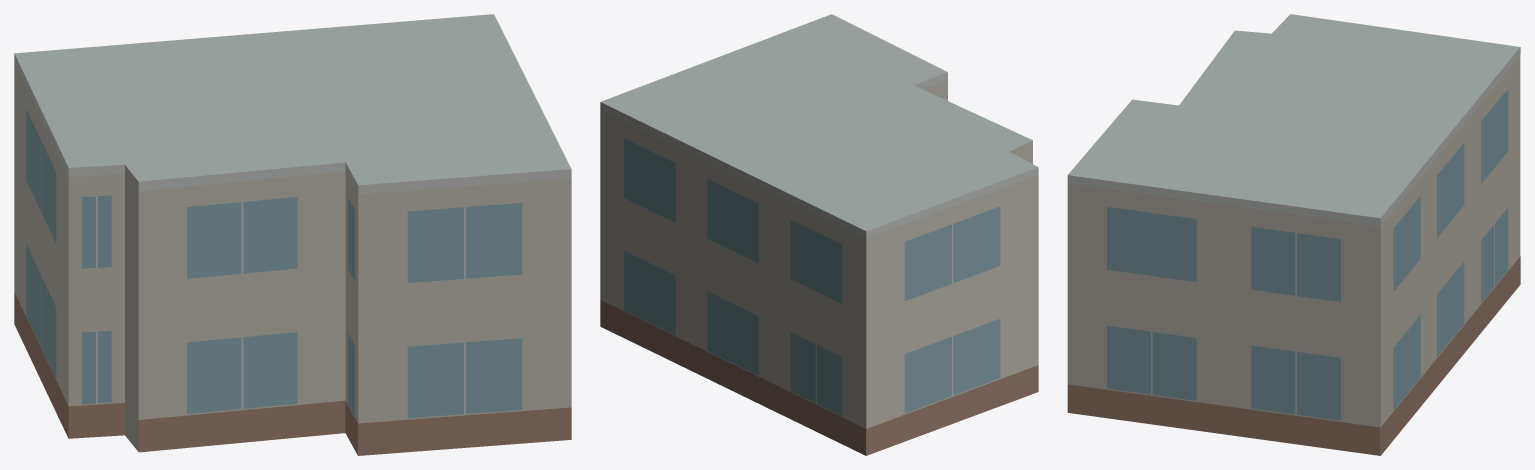
File: survey-upis-33044935.glb
3 views of the same model, side by side, from view 1: azimuth 30°, elevation 25°; view 2: azimuth 150°, elevation 25°; view 3: azimuth 270°, elevation 25° (orthographic). The views are drawn at different scales.
Parts seen in each view (by area): view 1: survey-upis-33044935.tmp; view 2: survey-upis-33044935.tmp; view 3: survey-upis-33044935.tmp.
Boxes of the visible parts, x1,y1,x2,y2 form: survey-upis-33044935.tmp: (14, 14, 571, 455); survey-upis-33044935.tmp: (600, 14, 1038, 455); survey-upis-33044935.tmp: (1067, 14, 1520, 455).
Size of the model in its own units: 13.28 by 7.2 by 12.45.
